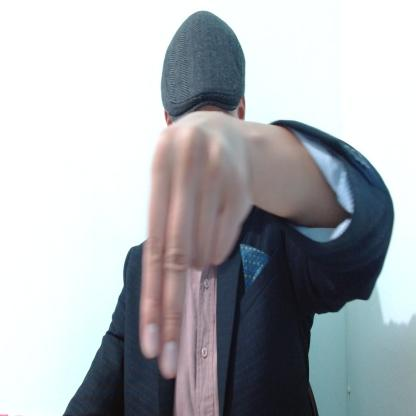N: (140, 111, 256, 378)
